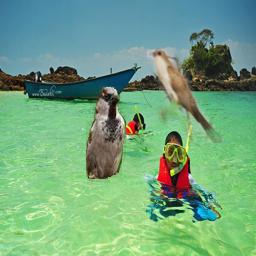Cuckoo: (147, 49, 224, 143)
Sparrow: (86, 84, 126, 186)
